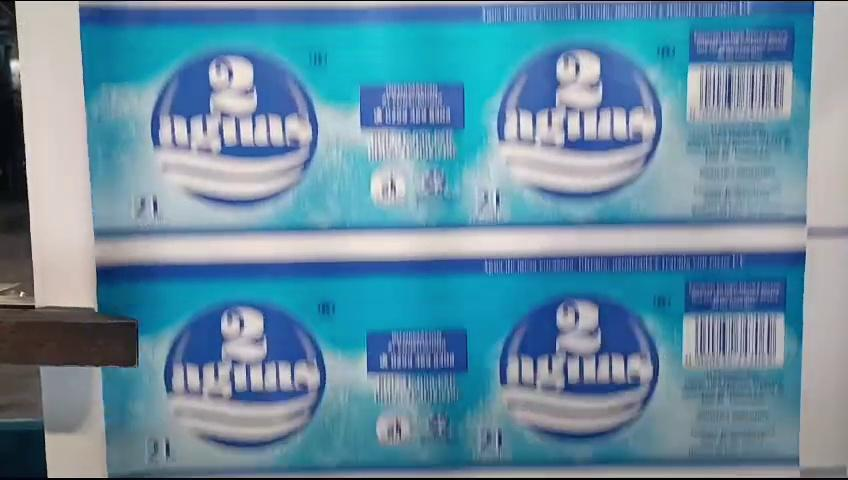print: (86, 247, 824, 476)
